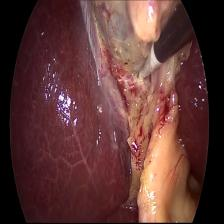Hook: (132, 42, 160, 90)
